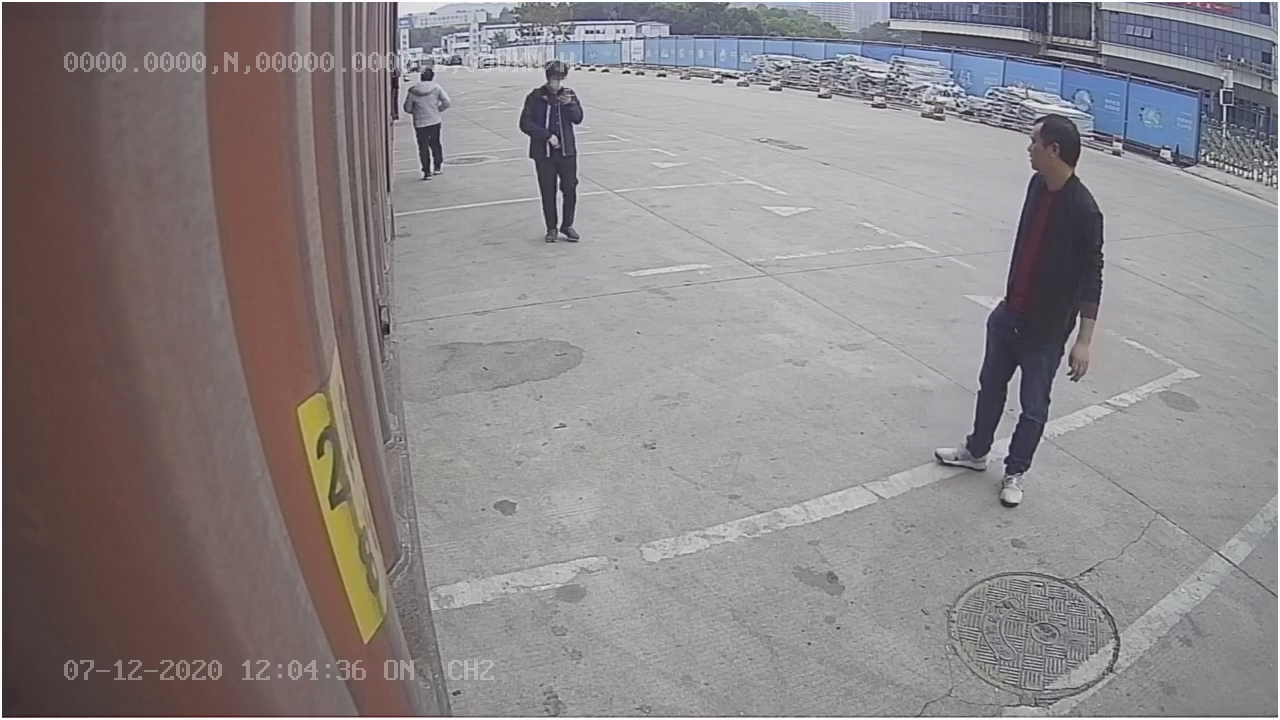person: (931, 109, 1110, 506)
